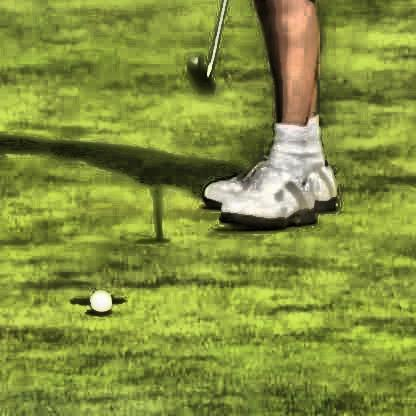golfball: (86, 289, 111, 313)
